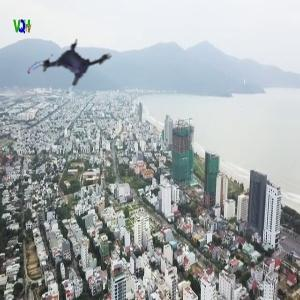drone: (30, 31, 106, 107)
